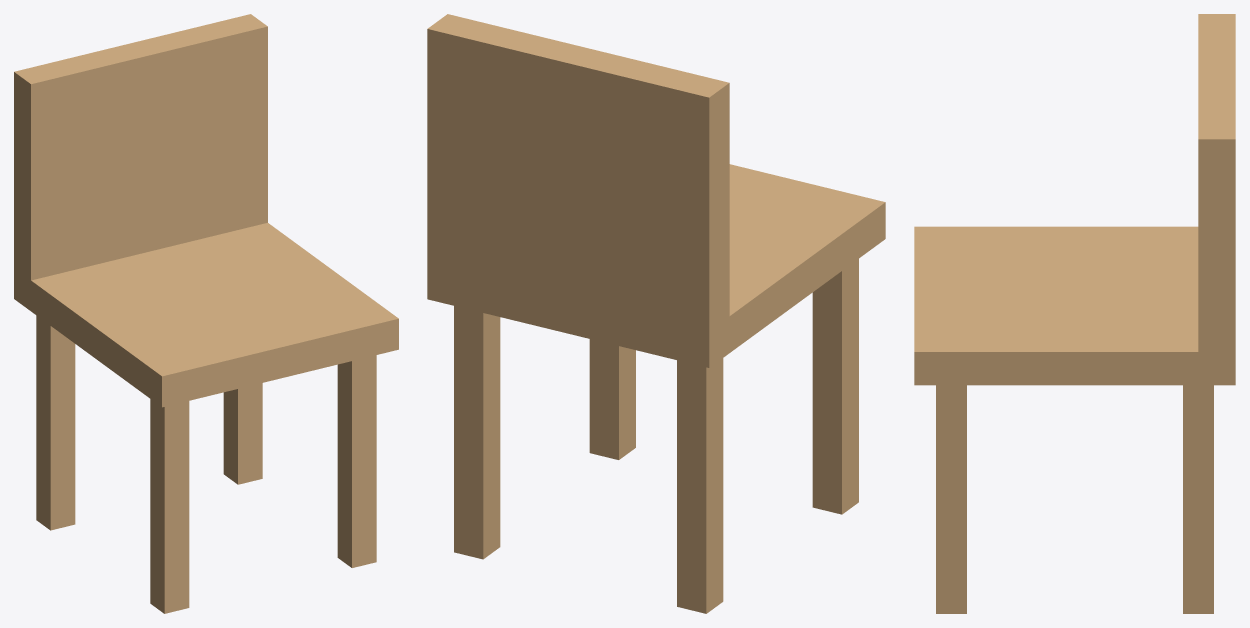
Rendered from sample-product.glb.
3 renders of one model, left to right at view 1: azimuth 30°, elevation 25°; view 2: azimuth 150°, elevation 25°; view 3: azimuth 270°, elevation 25°, orthographic. The views are drawn at different scales.
Visible parts, largest first — view 1: Sample Product Chair; view 2: Sample Product Chair; view 3: Sample Product Chair.
Part boxes in pixels (x1,y1,x2,y2): Sample Product Chair: [14, 14, 398, 613]; Sample Product Chair: [427, 14, 885, 613]; Sample Product Chair: [914, 14, 1235, 613].
Size of the model in its own units: 0.48 by 0.86 by 0.52.
